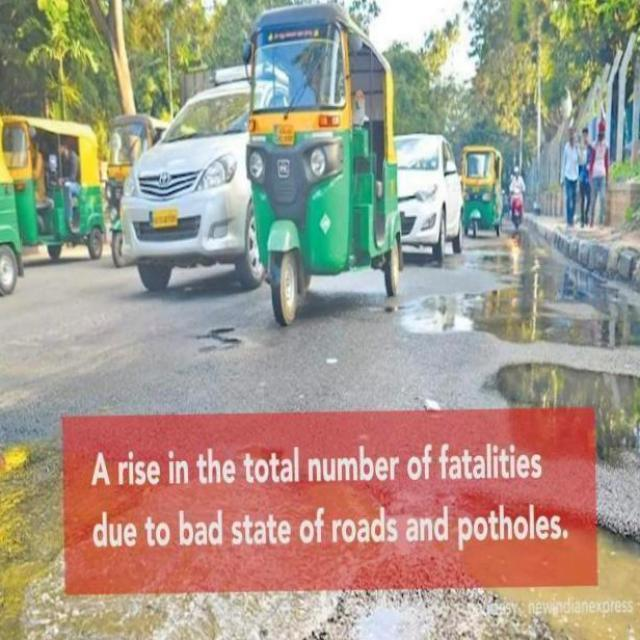Pathole: (443, 502, 640, 640), (500, 366, 640, 468), (194, 330, 243, 357)
